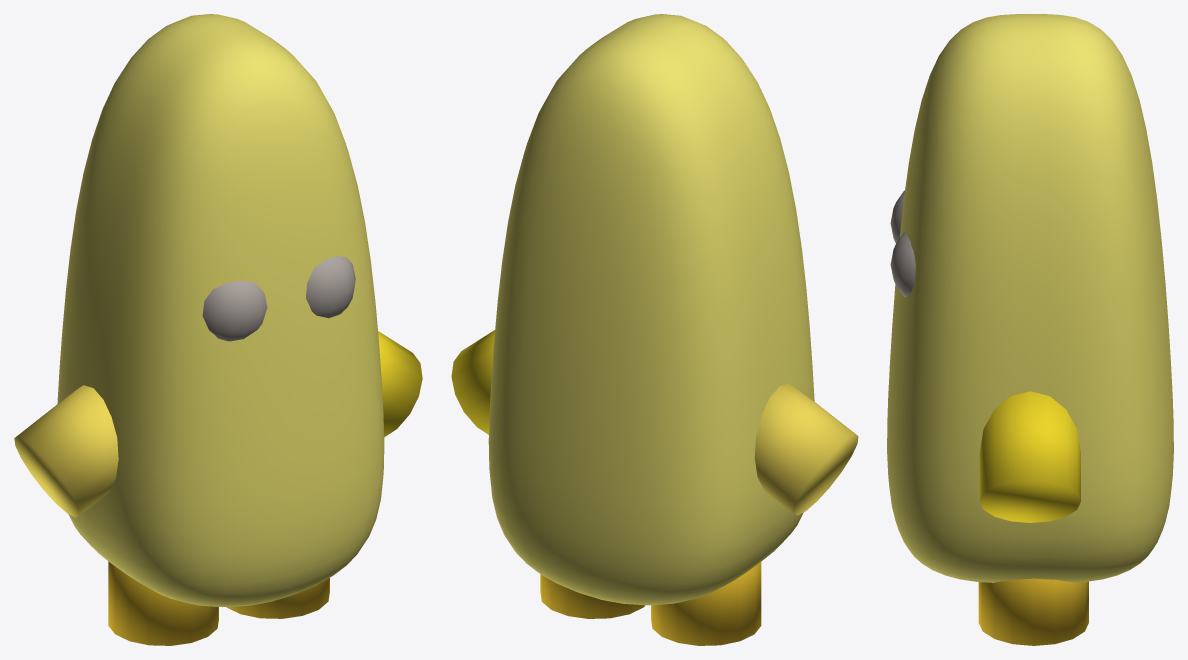
The model's file is Passenger Tall Yellow.fbx.
3 views of the same model, side by side, from view 1: azimuth 30°, elevation 25°; view 2: azimuth 150°, elevation 25°; view 3: azimuth 270°, elevation 25° (orthographic).
Visible parts, largest first — view 1: Cube, Cylinder.001, Cilinder, Cube.001, Cylinder; view 2: Cube, Cylinder.001, Cilinder, Cylinder; view 3: Cube, Cylinder, Cilinder, Cube.001.
Boxes of the visible parts, x1,y1,x2,y2 form: Cube: (57, 14, 384, 606); Cylinder.001: (14, 385, 118, 517); Cilinder: (108, 561, 329, 645); Cube.001: (202, 255, 355, 341); Cylinder: (378, 331, 422, 436); Cube: (488, 14, 814, 605); Cylinder.001: (754, 383, 858, 515); Cilinder: (540, 562, 761, 645); Cylinder: (451, 330, 494, 434); Cube: (887, 14, 1173, 582); Cylinder: (979, 391, 1080, 522); Cilinder: (978, 578, 1088, 645); Cube.001: (890, 190, 915, 297).
Size of the model in its own units: 307 by 441 by 199.
